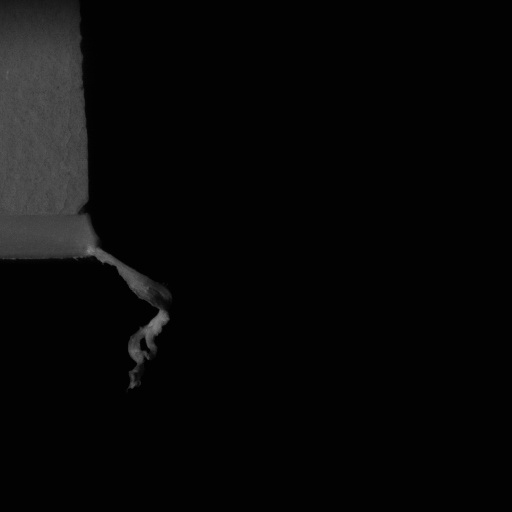changdai: (88, 243, 172, 390)
